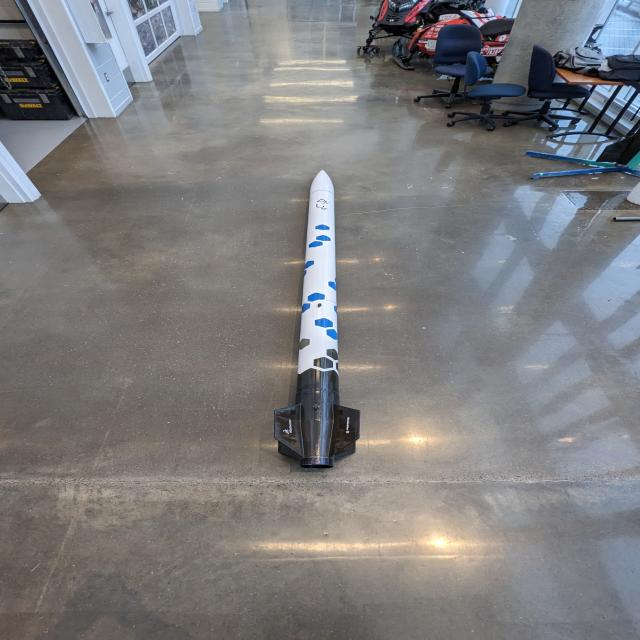Rocket: (274, 169, 361, 470)
